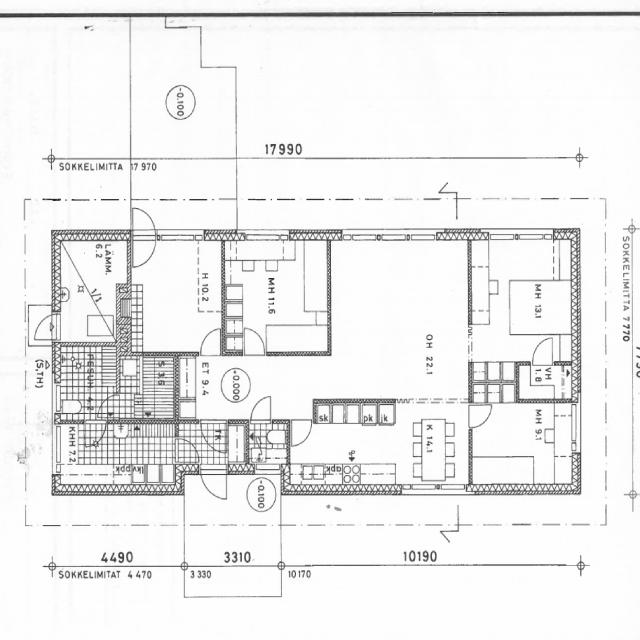door: (520, 363, 574, 403), (130, 205, 158, 268), (525, 351, 563, 393), (200, 463, 229, 503), (529, 334, 557, 368), (248, 393, 274, 425), (31, 312, 58, 342), (242, 325, 267, 357), (198, 326, 223, 355), (468, 401, 493, 430), (290, 418, 314, 448), (200, 421, 224, 450)
window: (492, 230, 556, 244), (569, 397, 583, 454), (243, 230, 291, 244), (401, 482, 456, 494), (158, 231, 203, 245), (402, 229, 440, 244), (344, 230, 381, 244), (50, 373, 59, 418)
zone: (224, 241, 330, 354), (473, 238, 572, 355), (130, 237, 223, 355), (468, 401, 576, 485), (55, 418, 176, 492), (56, 238, 128, 342), (54, 340, 119, 418), (120, 354, 178, 421), (518, 362, 574, 403), (247, 420, 290, 464)
